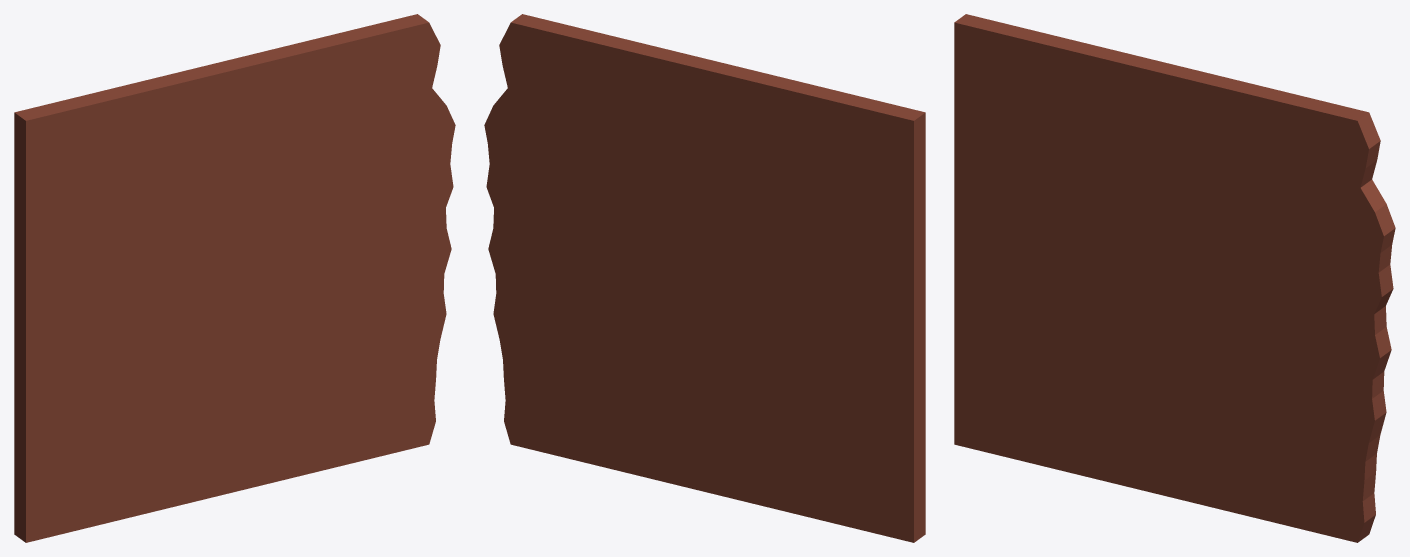
File: Tile02.glb
3 renders of one model, left to right at view 1: azimuth 30°, elevation 25°; view 2: azimuth 150°, elevation 25°; view 3: azimuth 330°, elevation 25°, orthographic.
Visible parts, largest first — view 1: 02; view 2: 02; view 3: 02.
Part boxes in pixels (<box>): 02: <box>14,14,455,542</box>; 02: <box>484,14,925,542</box>; 02: <box>954,14,1395,542</box>.
Bounding box in the file's own units: 2.13 × 2 × 0.1.
Materials: 1 (1 with a texture image).
